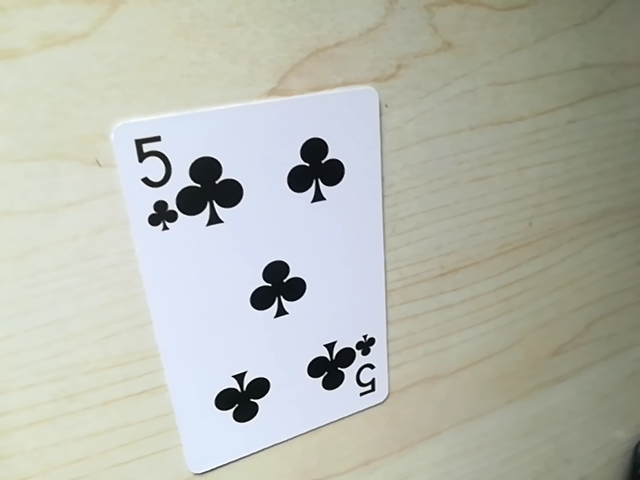mh 5: (128, 124, 185, 237), (337, 333, 384, 407)
